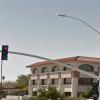Traffic light: (0, 39, 13, 73)
